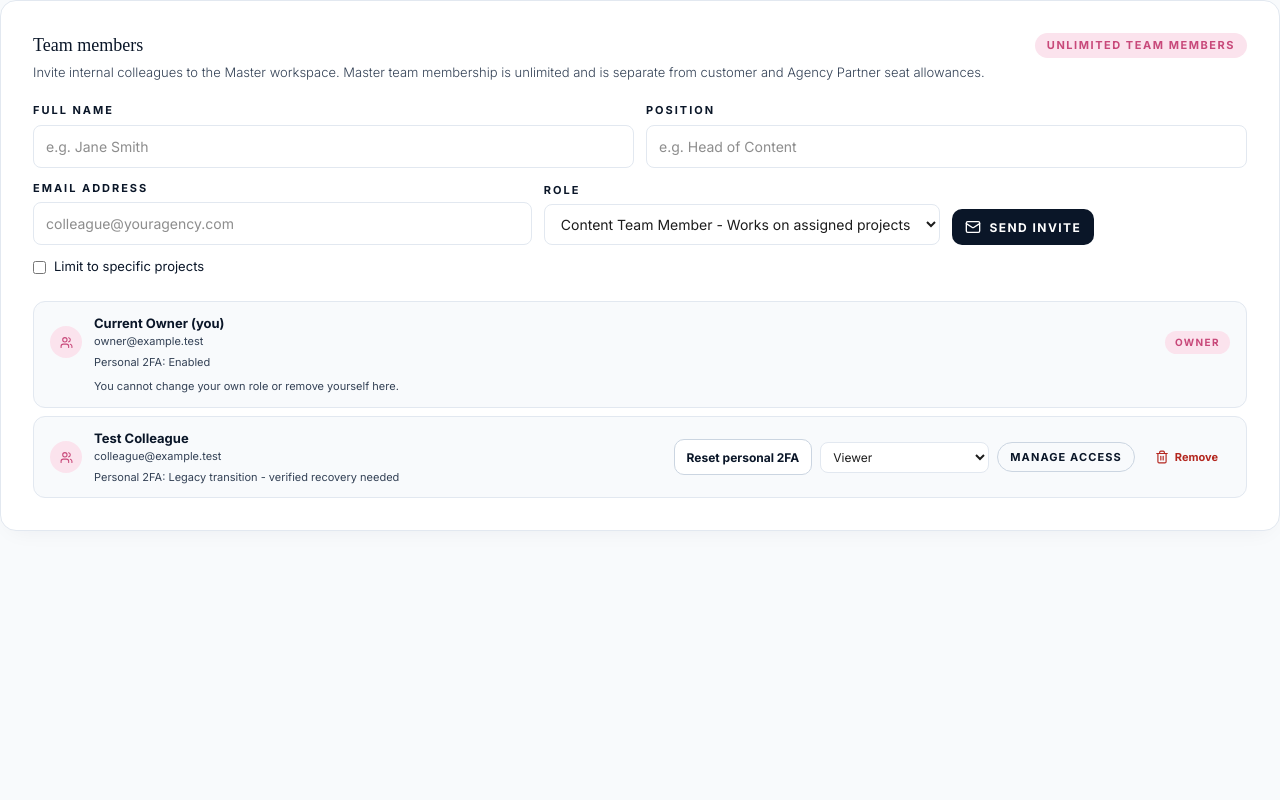
Test: TeamSection personal MFA recovery › keeps reset failures explicit and does not claim success
The width and height of the screenshot is (1280, 800).
Click the button with aria-label "Reset two-factor for colleague@example.test" at (743, 457), box top-left (674, 439), bottom-right (812, 475)
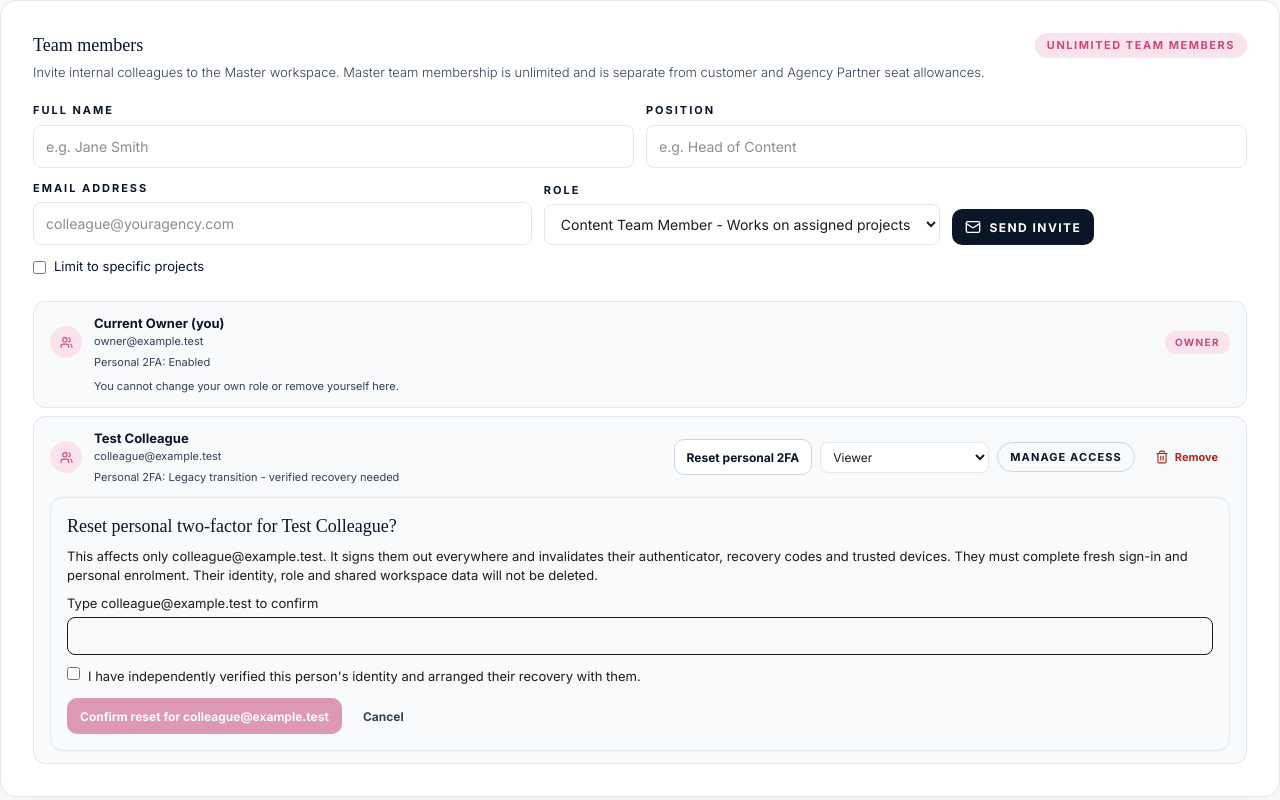
Type "colleague@example.test" into the field labelled "Type colleague@example.test to confirm" at (640, 636), box top-left (67, 617), bottom-right (1213, 655)
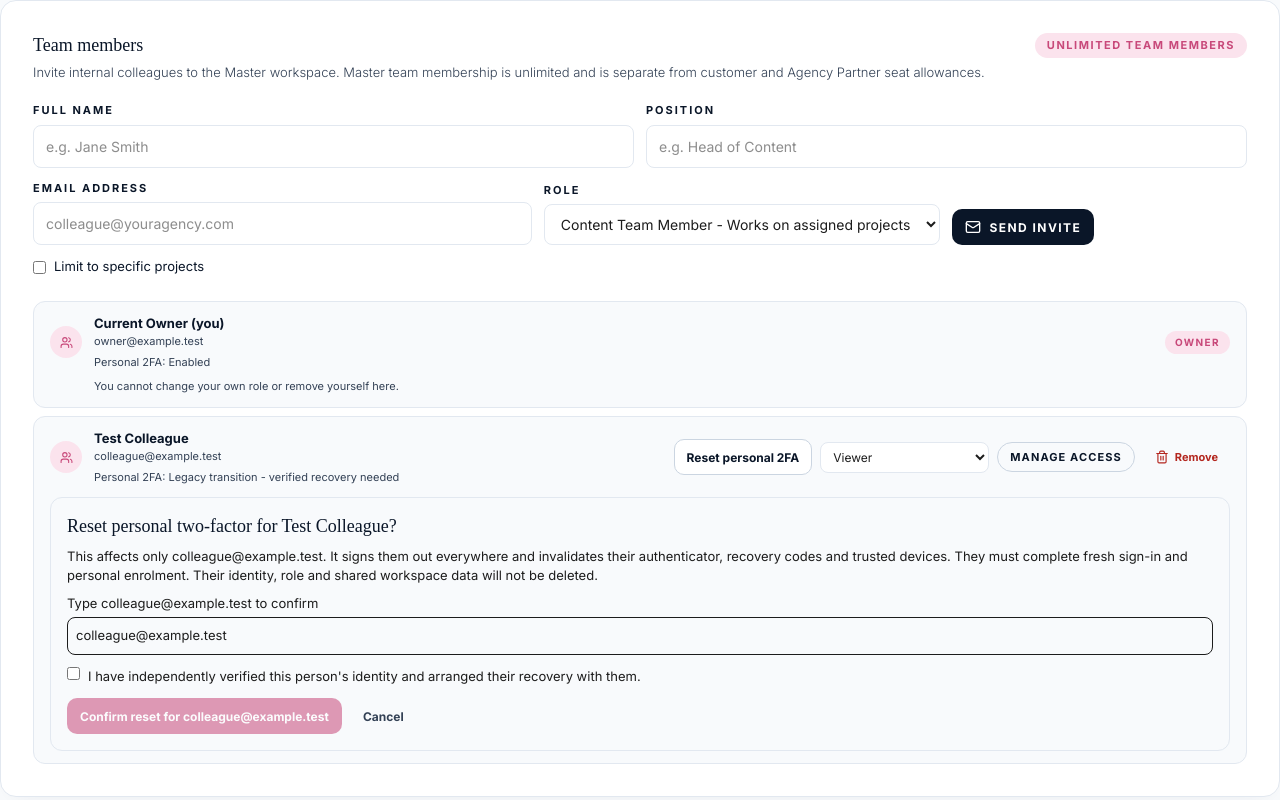
Click the checkbox labelled "independently verified this person's identity" at (74, 673), box top-left (67, 667), bottom-right (80, 680)
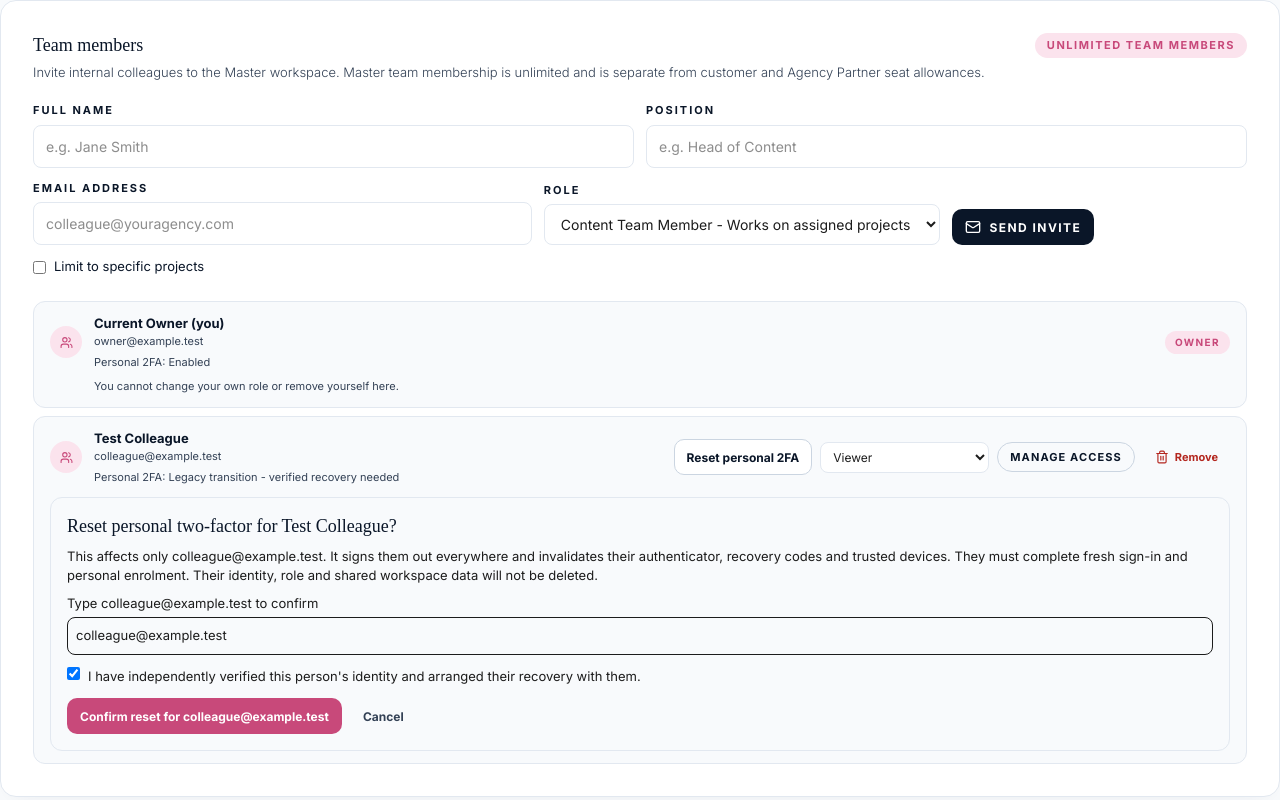
Click the button "Confirm reset for colleague@example.test" at (204, 716), box top-left (67, 698), bottom-right (342, 734)
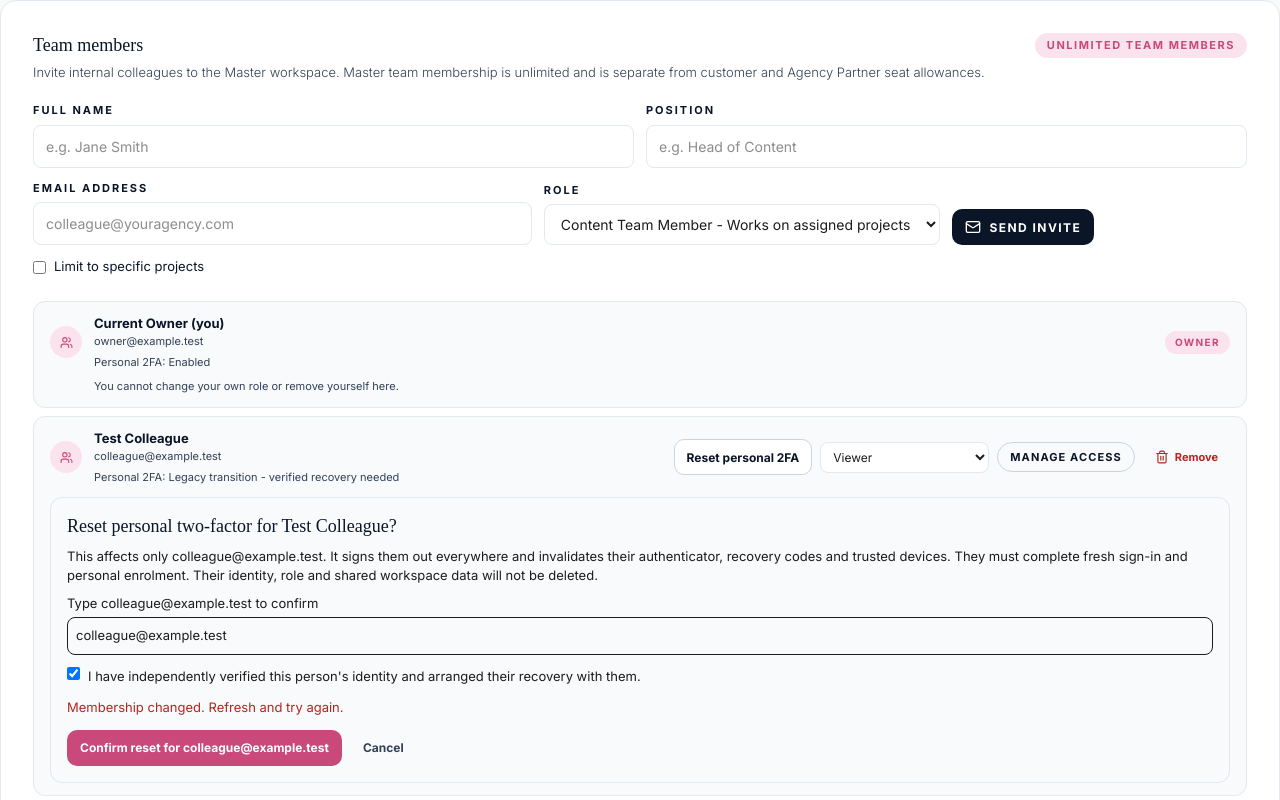
Expected: the message shows "Membership changed", top-left (67, 699), bottom-right (344, 715)
